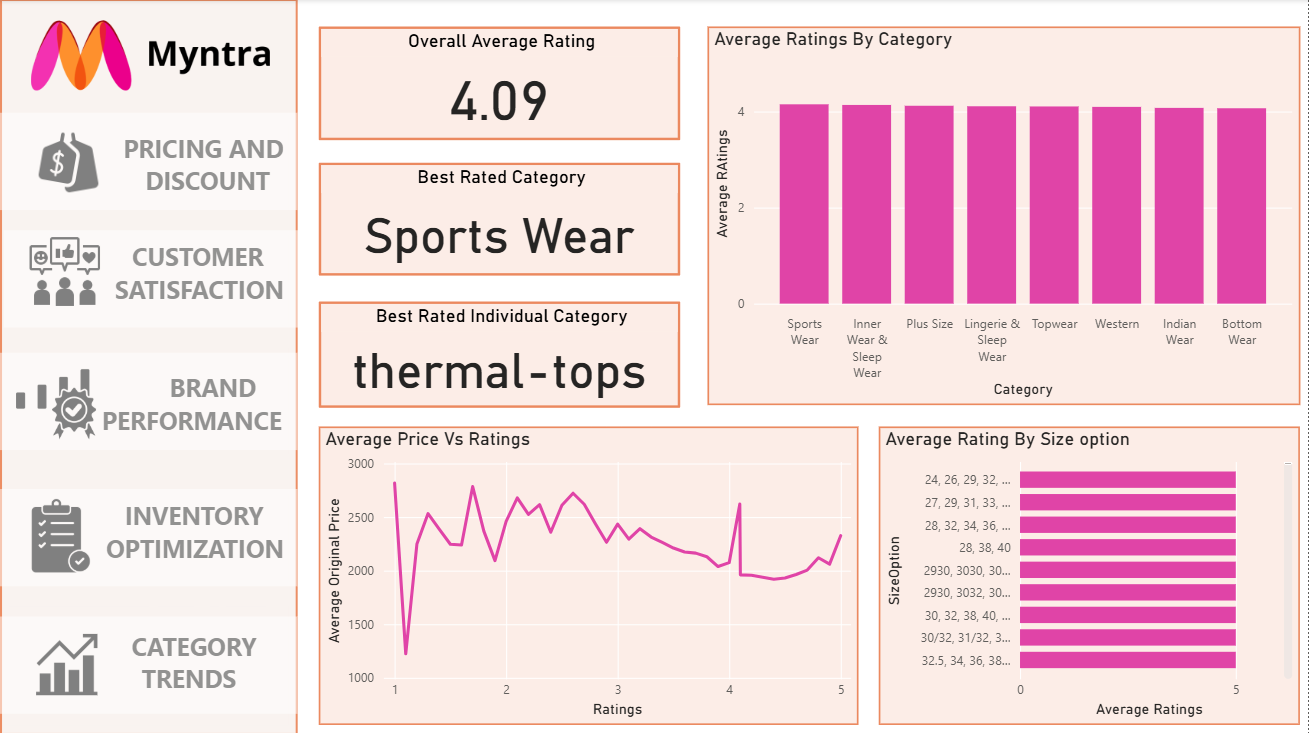

The page's visual inventory and layout, read from the dashboard file:
{"tool":"powerbi","page":{"name":"Page 2","canvas":[1280,720],"ordinal":1},"visuals":[{"type":"shape","box":[0,0,291.2,720],"z":0},{"type":"image","box":[0,16.2,295,78.8],"z":1000},{"type":"textbox","box":[8.8,125,273.8,82.5],"z":2000},{"type":"image","box":[33,123.5,68.5,72.1],"z":3000},{"type":"textbox","box":[8.6,231.1,273.9,90.5],"z":4000},{"type":"image","box":[8.6,226.2,108.8,80.7],"z":5000},{"type":"textbox","box":[8.6,341.2,273.9,103.9],"z":6000},{"type":"image","box":[8.6,348.5,92.9,96.6],"z":7000},{"type":"textbox","box":[8.6,484.2,273.9,84.4],"z":8000},{"type":"image","box":[17.1,484.2,85.6,81.9],"z":9000},{"type":"textbox","box":[8.8,593.8,273.8,116.2],"z":10000},{"type":"image","box":[28.1,616.3,74.6,69.7],"z":11000},{"type":"actionButton","box":[0,111.3,291,95.4],"z":12000},{"type":"actionButton","box":[3.7,226.2,291,95.4],"z":13000},{"type":"actionButton","box":[0,346.1,291,95.4],"z":14000},{"type":"actionButton","box":[0,479.4,291,95.4],"z":15000},{"type":"actionButton","box":[0,604.1,291,95.4],"z":16000},{"type":"columnChart","title":"Average Ratings By Category","fields":{"Y":["myntra_cleaned.Avg_Ratings"],"Category":["myntra_cleaned.Category"]},"box":[692.1,26.9,579.6,370.5],"z":17000},{"type":"lineChart","title":"Average Price Vs Ratings","fields":{"Y":["Avg(myntra_cleaned.OriginalPrice (in Rs))"],"Category":["myntra_cleaned.Ratings"]},"box":[311.8,418.2,528.3,292.3],"z":18000},{"type":"barChart","title":"Average Rating By Size option","fields":{"Category":["myntra_cleaned.SizeOption"],"Y":["myntra_cleaned.Avg_Ratings"]},"box":[859.7,418.2,412.1,292.3],"z":19000},{"type":"card","title":"Overall Average Rating","fields":{"Values":["myntra_cleaned.Overall Avg Rating"]},"box":[311.8,26.9,353.4,111.3],"z":20000},{"type":"card","title":"Best Rated Individual Category","fields":{"Values":["myntra_cleaned.Best Rated Category"]},"box":[311.8,295.9,353.4,103.9],"z":21000},{"type":"card","title":"Best Rated Category","fields":{"Values":["myntra_cleaned.Best Rated Product Category"]},"box":[311.8,160.2,353.4,110.1],"z":22000}]}

Visuals, with their boxes in screenshot pixels (x1, y1, x2, y2), scaled from the page's 1280x720 canvas onto the 1309x733 screenshot:
shape: detection(0, 0, 298, 732)
image: detection(0, 16, 302, 97)
textbox: detection(9, 127, 289, 211)
image: detection(34, 126, 104, 199)
textbox: detection(9, 235, 289, 327)
image: detection(9, 230, 120, 312)
textbox: detection(9, 347, 289, 453)
image: detection(9, 355, 104, 453)
textbox: detection(9, 493, 289, 579)
image: detection(17, 493, 105, 576)
textbox: detection(9, 605, 289, 723)
image: detection(29, 627, 105, 698)
actionButton: detection(0, 113, 298, 210)
actionButton: detection(4, 230, 301, 327)
actionButton: detection(0, 352, 298, 449)
actionButton: detection(0, 488, 298, 585)
actionButton: detection(0, 615, 298, 712)
"Average Ratings By Category" columnChart: detection(708, 27, 1301, 405)
"Average Price Vs Ratings" lineChart: detection(319, 426, 859, 723)
"Average Rating By Size option" barChart: detection(879, 426, 1301, 723)
"Overall Average Rating" card: detection(319, 27, 680, 141)
"Best Rated Individual Category" card: detection(319, 301, 680, 407)
"Best Rated Category" card: detection(319, 163, 680, 275)
